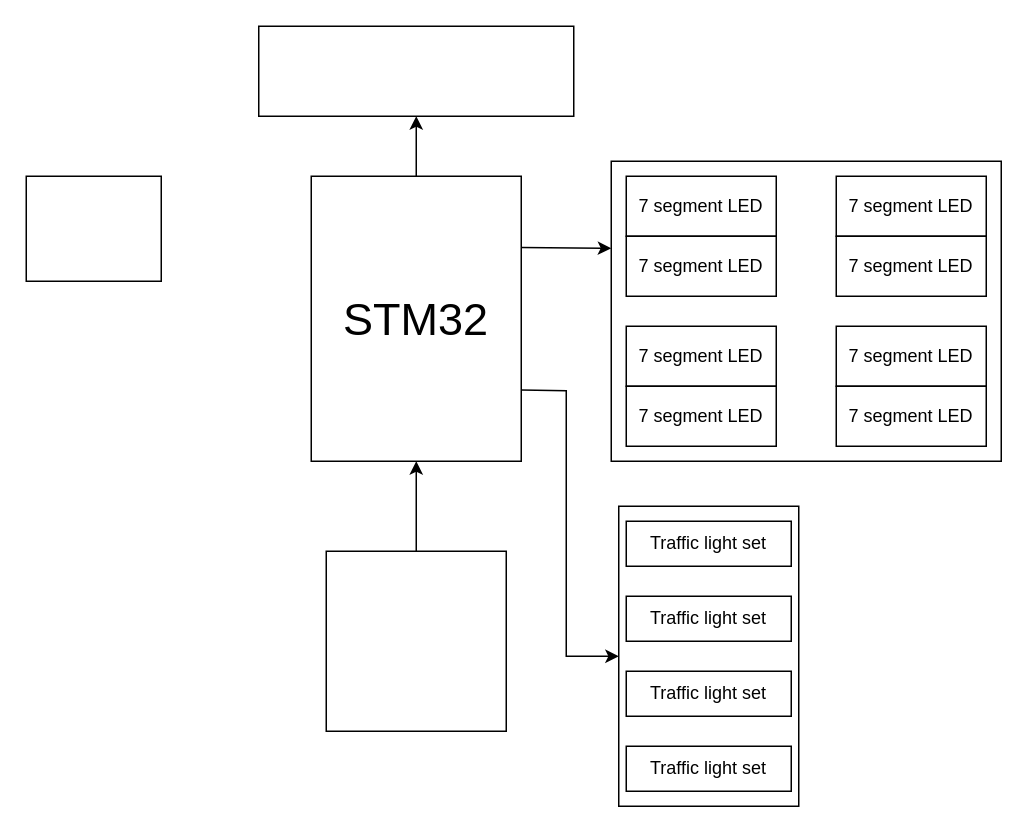
This 1028x833 diagram has some shape labels left out. The shapes that lost their labels are listed below. From the top down, each one's box as (x1, y1, x2, y2) in pixels, then its label:
(257, 25, 574, 116): 16x2 LCD Display
(25, 175, 161, 281): +3.3V and +5V supply
(325, 550, 506, 731): 4x4 Maxtrix keyboard
